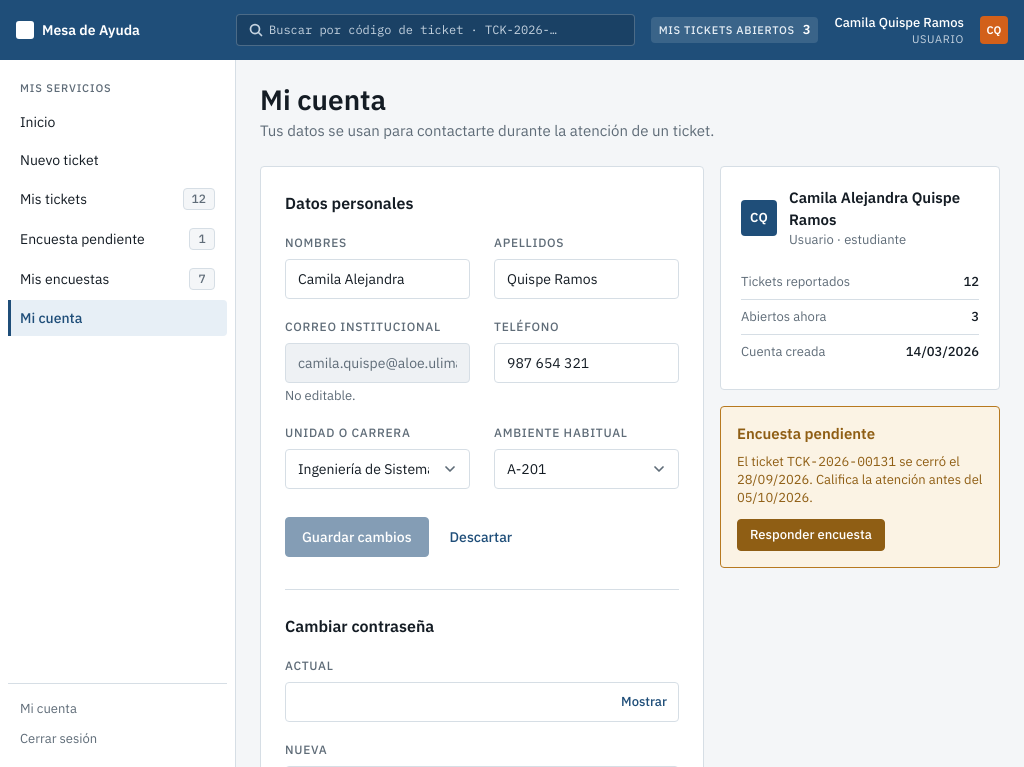
Test case: AccountPage · edición › guarda los cambios, lo notifica y actualiza el nombre de la cabecera sin recargar
The width and height of the screenshot is (1024, 767).
Expected: the form named "Datos personales" is shown, top-left (285, 235), bottom-right (679, 557)
Expected: the text "Mis tickets abiertos" is shown, top-left (659, 22), bottom-right (795, 38)
Replace the text in the field labelled "Apellidos" with "Quispe   Rojas": (586, 279) top-left (494, 259), bottom-right (679, 299)
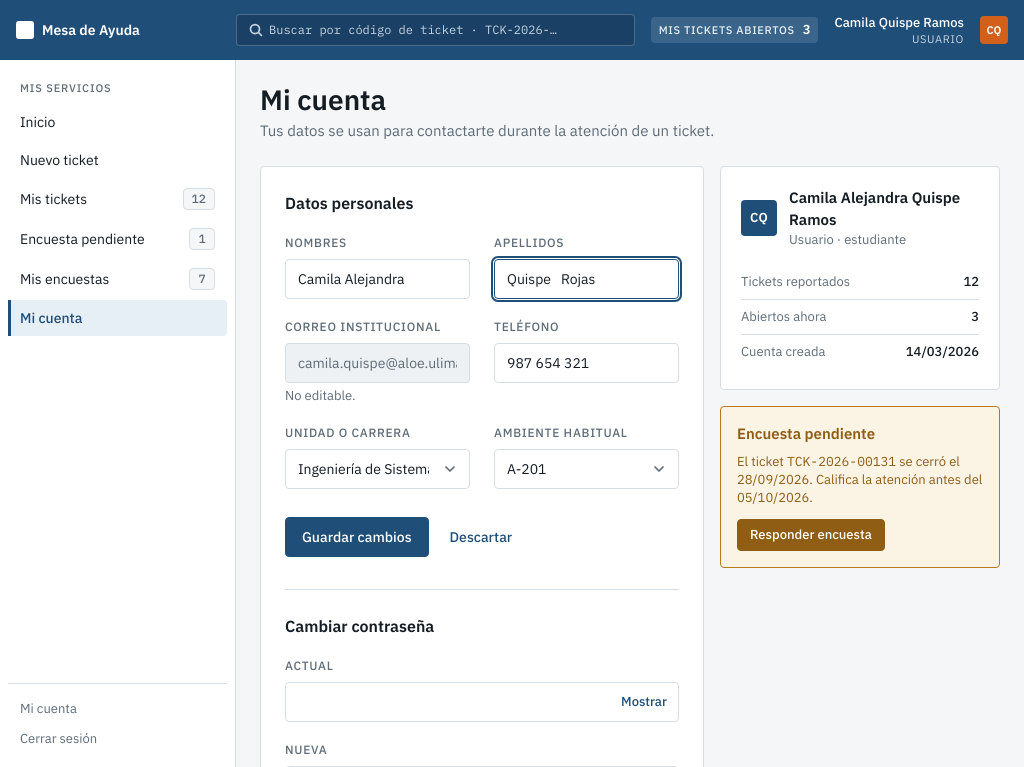
Replace the text in the field labelled "Teléfono" with "912345678": (586, 363) top-left (494, 343), bottom-right (679, 383)
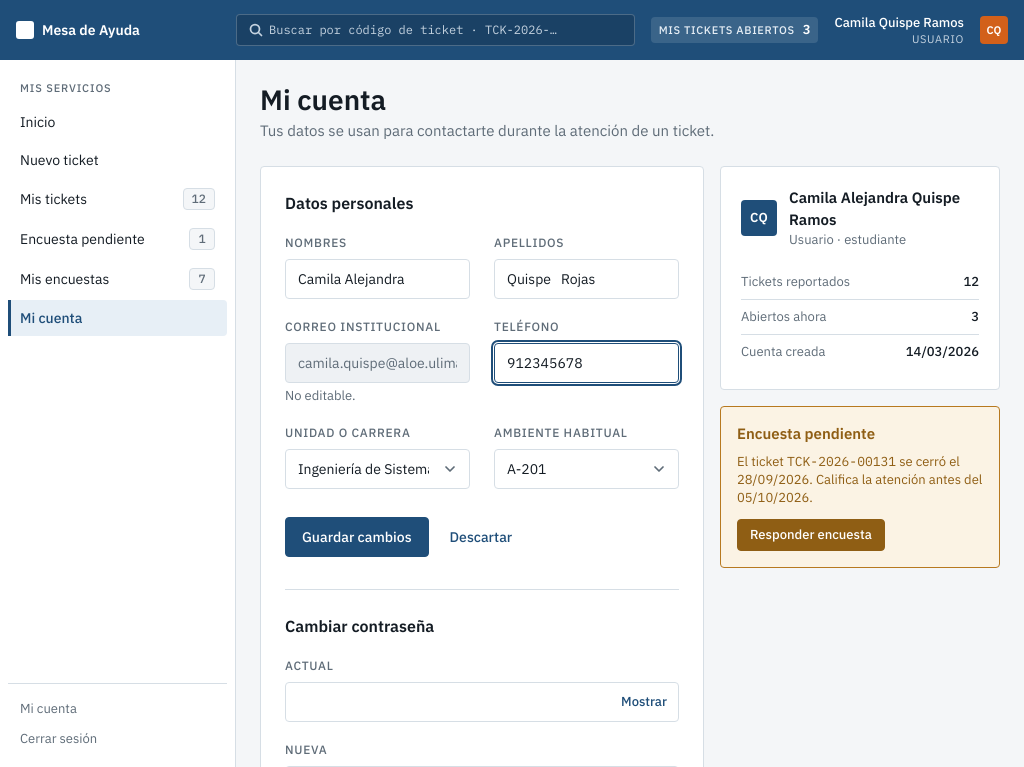
Select "Sin ambiente habitual" in the dropdown labelled "Ambiente habitual": (586, 469) top-left (494, 449), bottom-right (679, 489)
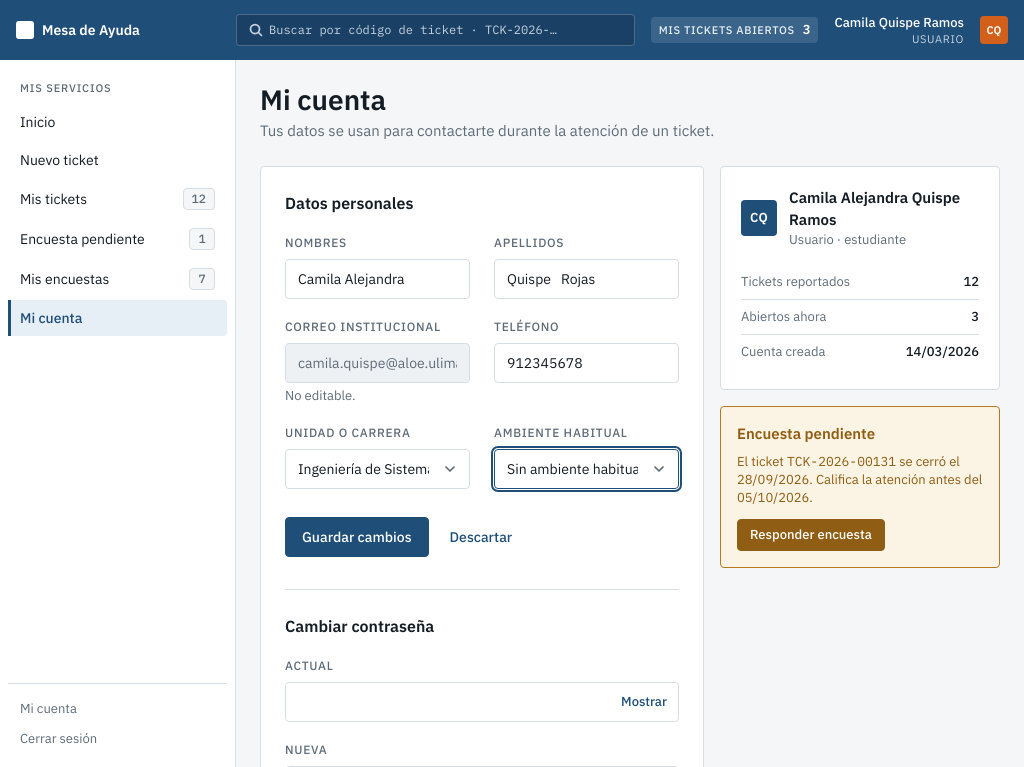
Click the button "Guardar cambios": (357, 537) top-left (285, 517), bottom-right (429, 557)
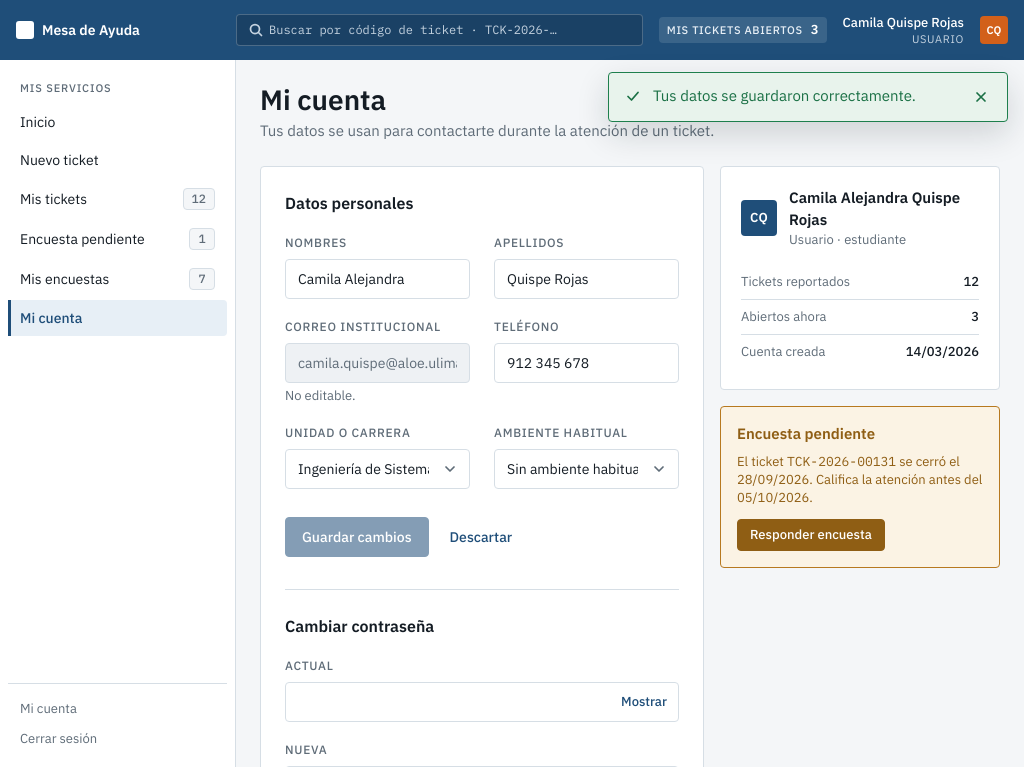
Now the text "Tus datos se guardaron correctamente." is shown, box top-left (653, 85), bottom-right (955, 107)
Now the text "Camila Quispe Rojas" is shown, box top-left (842, 14), bottom-right (964, 32)
Now the button "Guardar cambios" is disabled, box top-left (285, 517), bottom-right (429, 557)
